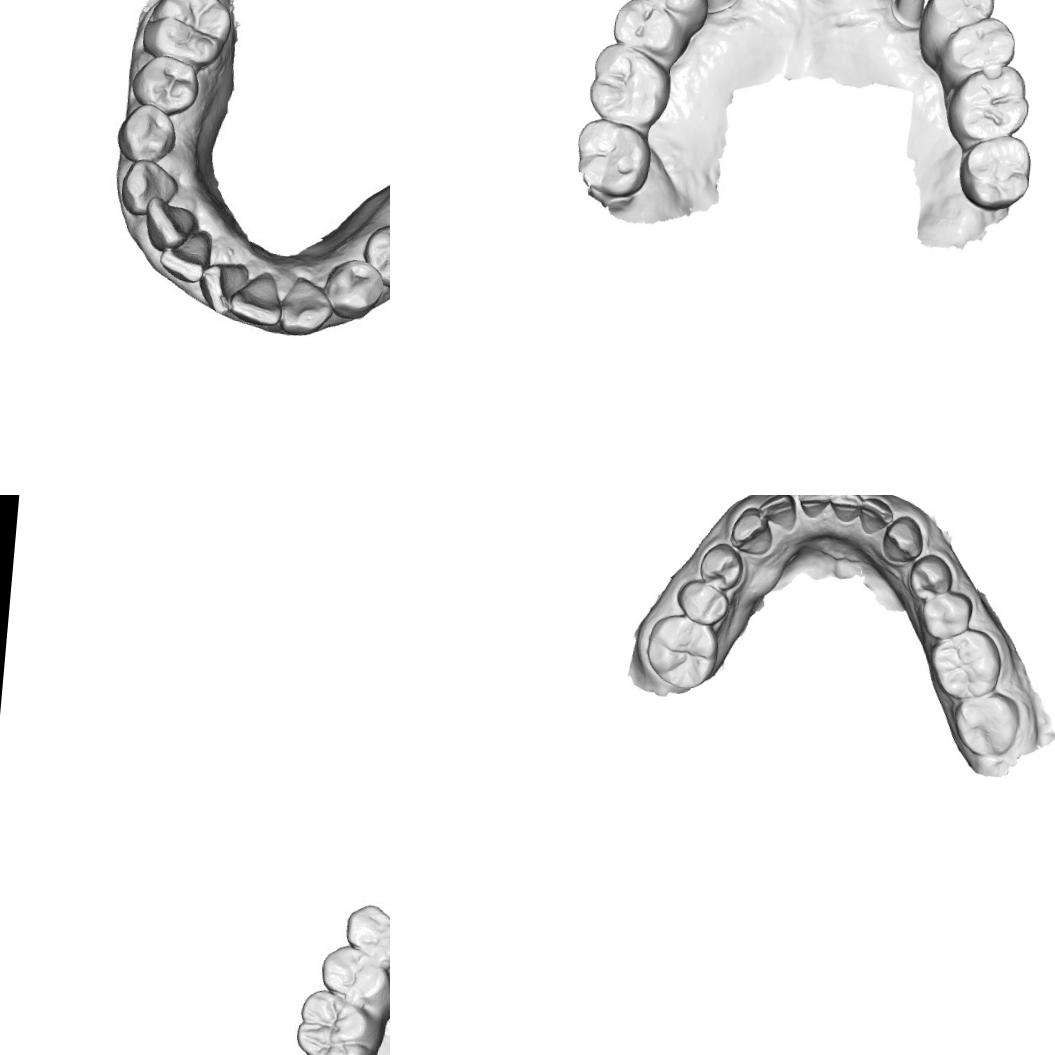abutment: (890, 0, 932, 30)
canine: (116, 152, 181, 220), (276, 271, 334, 336), (727, 503, 775, 557), (878, 511, 926, 564)
incisor: (231, 271, 288, 328), (161, 227, 213, 287), (198, 256, 248, 317), (142, 194, 200, 246), (754, 495, 801, 533), (855, 495, 895, 539), (826, 495, 865, 526), (793, 495, 831, 521)
molar: (584, 38, 677, 130), (944, 59, 1032, 151), (571, 113, 654, 206), (954, 131, 1034, 214), (642, 611, 722, 692), (926, 622, 1004, 702), (292, 987, 379, 1055), (150, 0, 234, 62), (949, 689, 1022, 760)
premolar: (940, 10, 1020, 78), (609, 0, 689, 61), (316, 941, 390, 1003), (321, 256, 390, 322), (134, 52, 195, 112), (119, 102, 178, 164), (341, 901, 390, 966), (918, 586, 974, 642), (672, 576, 732, 628), (904, 550, 956, 602), (695, 539, 745, 592), (927, 0, 998, 33), (636, 0, 709, 24), (371, 224, 390, 285)
